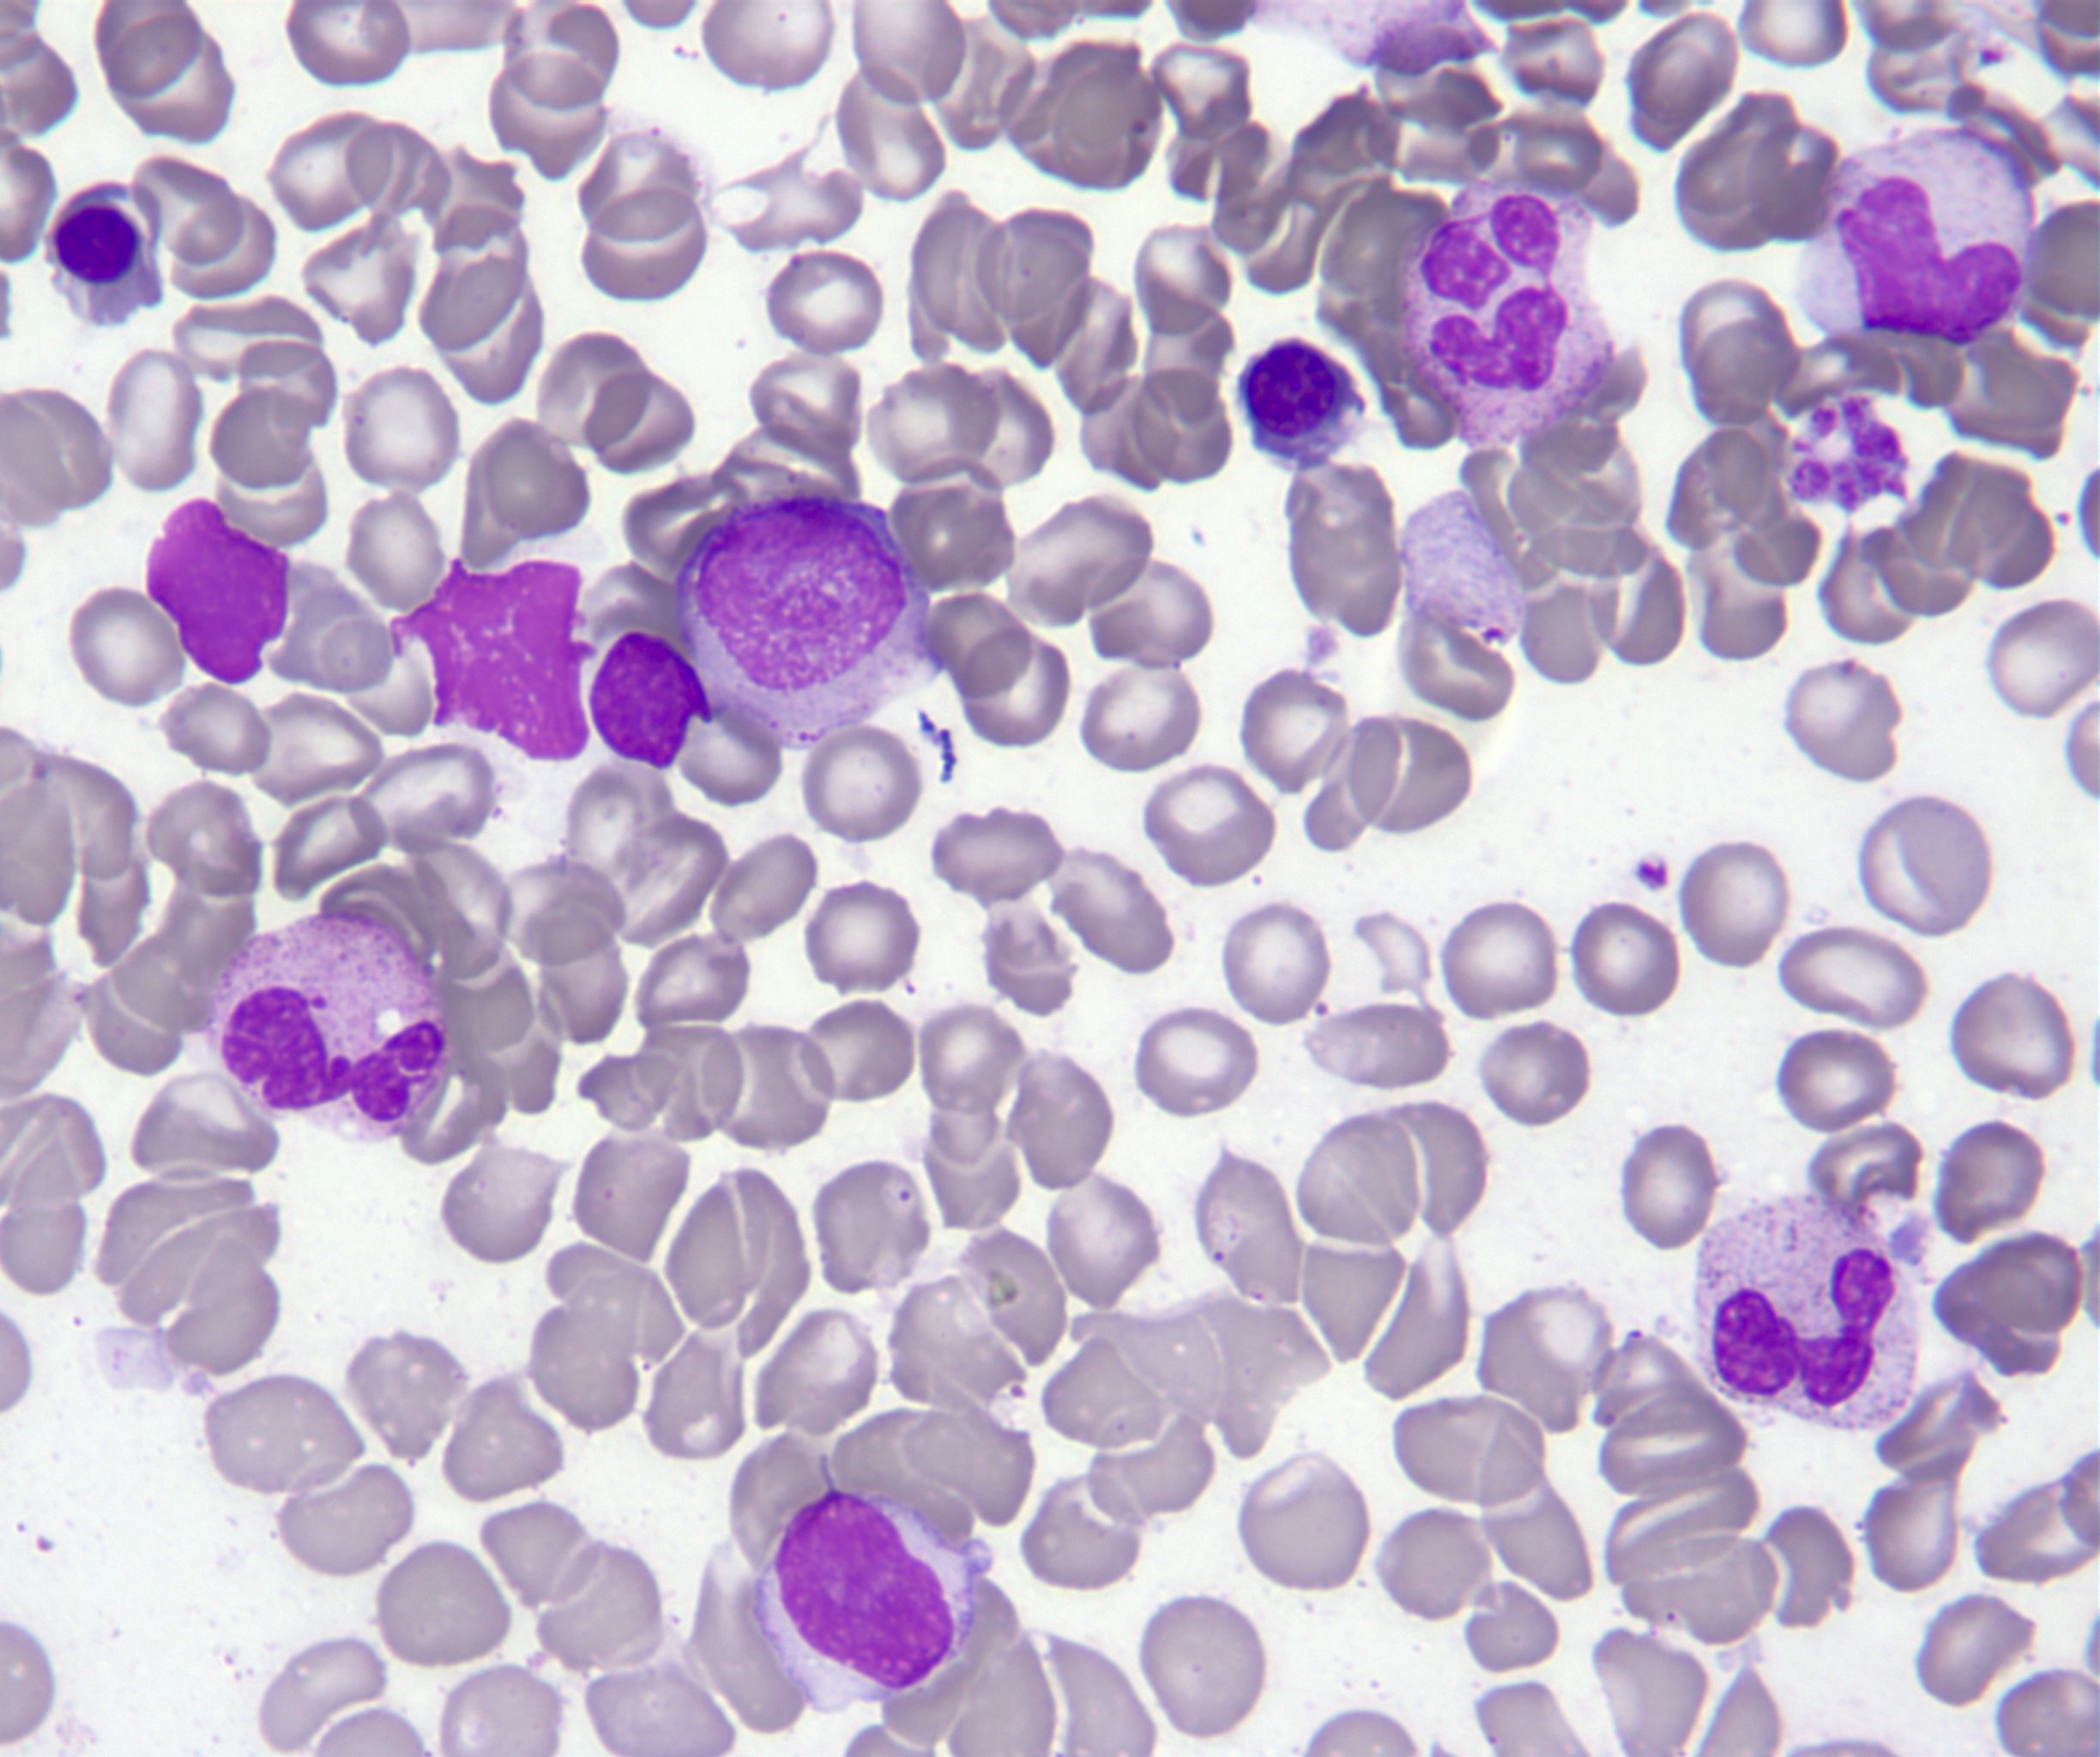24: (45, 180, 164, 330)
3: (677, 497, 938, 752)
32: (748, 1490, 991, 1713)
4: (1793, 129, 2035, 345)
5: (1697, 1195, 1917, 1427)
6: (208, 911, 452, 1146), (1402, 180, 1613, 450)
x: (389, 558, 591, 761), (148, 499, 290, 684), (591, 632, 710, 769), (1240, 340, 1366, 468), (1781, 393, 1910, 515)
